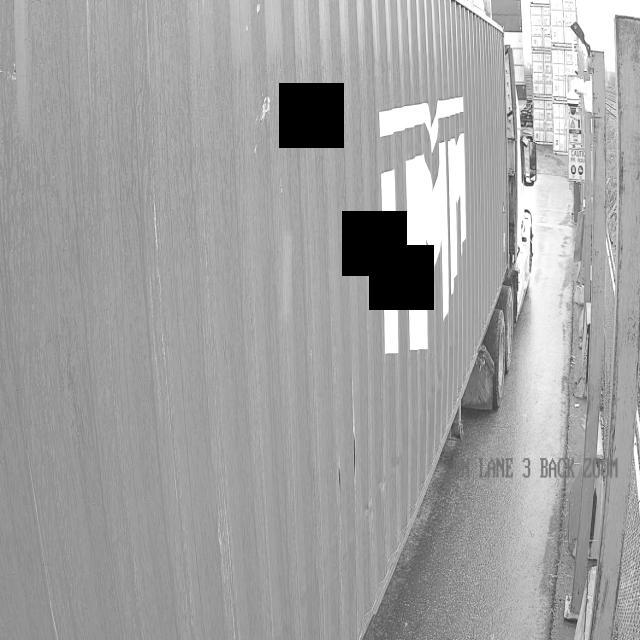container_company_logo: (341, 68, 520, 373)
truck_with_container: (0, 0, 523, 640)
